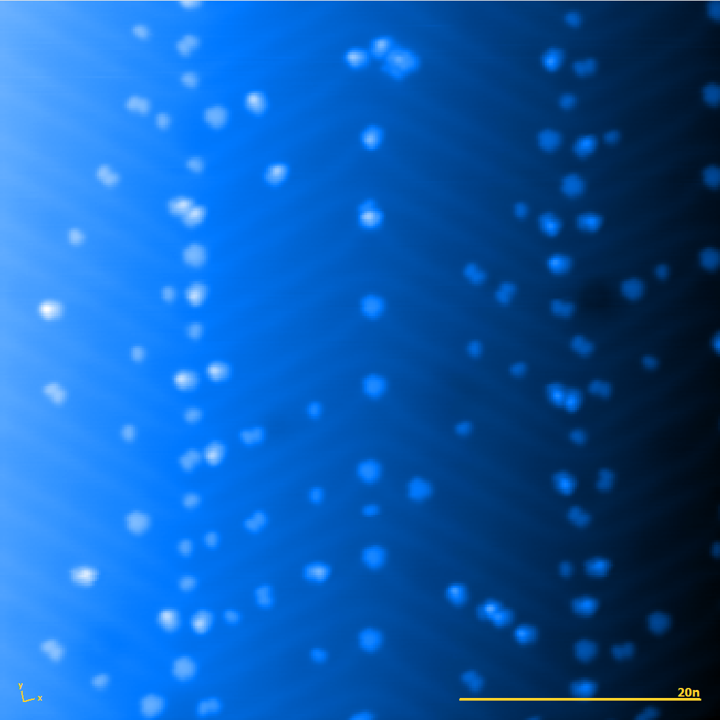M: (360, 543, 390, 572), (356, 626, 385, 654), (405, 475, 434, 503), (359, 372, 388, 400), (358, 292, 386, 320), (558, 171, 586, 199), (355, 458, 383, 485), (535, 127, 562, 154), (618, 276, 646, 302), (171, 654, 197, 681), (202, 103, 228, 129), (139, 692, 165, 717), (646, 609, 671, 634)
